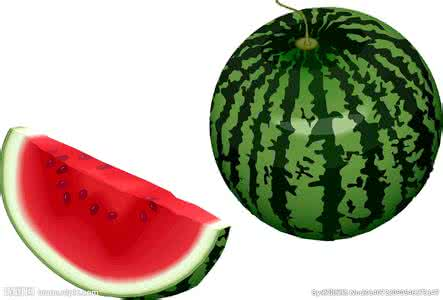watermelon: (211, 1, 443, 241)
